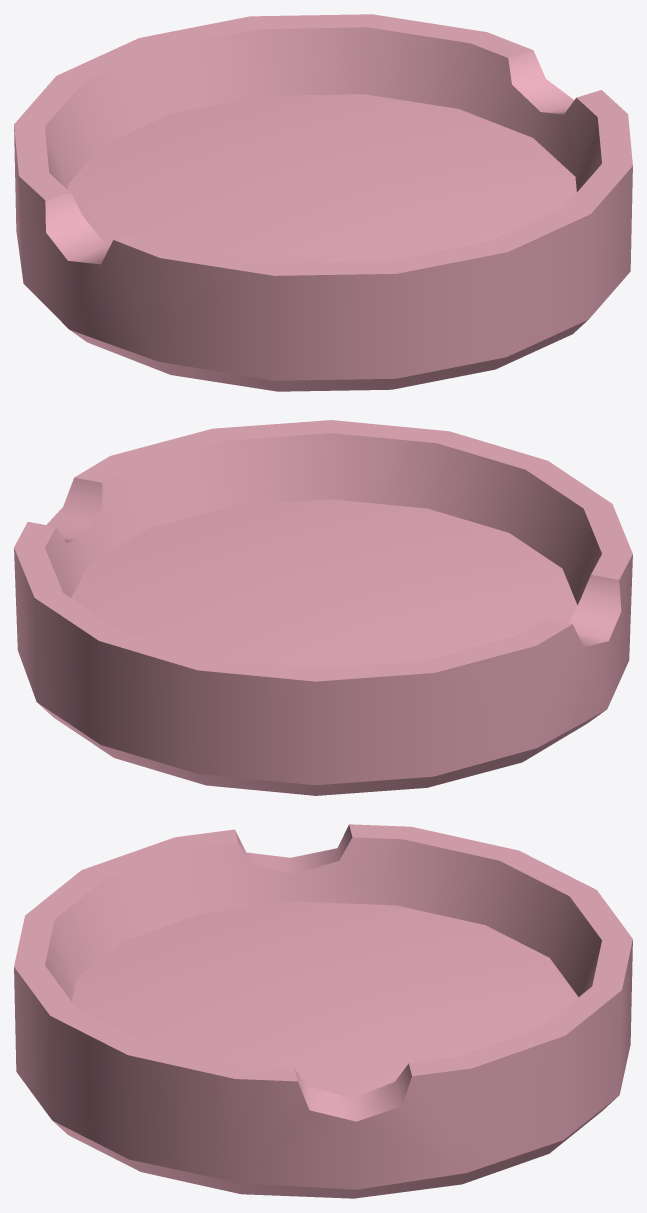
The model's file is Ashtray.fbx.
3 renders of one model, top to bottom at view 1: azimuth 30°, elevation 25°; view 2: azimuth 150°, elevation 25°; view 3: azimuth 270°, elevation 25°, orthographic.
Parts seen in each view (by area): view 1: Ashtray; view 2: Ashtray; view 3: Ashtray.
Boxes of the visible parts, x1,y1,x2,y2 form: Ashtray: (14, 14, 632, 391); Ashtray: (14, 420, 632, 795); Ashtray: (14, 824, 632, 1198).
Size of the model in its own units: 24.74 by 5.41 by 24.53.
